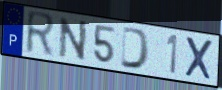1: (165, 34, 179, 77)
5: (93, 24, 117, 65)
D: (119, 25, 152, 72)
N: (58, 17, 89, 63)
R: (24, 9, 57, 60)
X: (184, 35, 215, 82)
